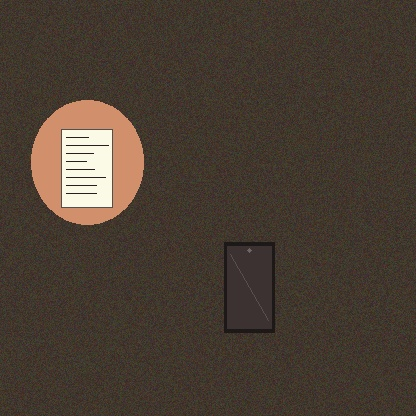cell_phone: (224, 242, 274, 332)
exam_chit: (61, 129, 112, 207)
